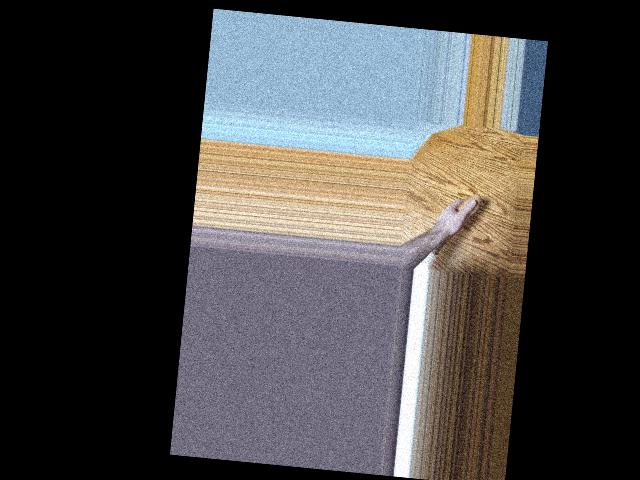sweet_potato: (428, 189, 480, 260)
